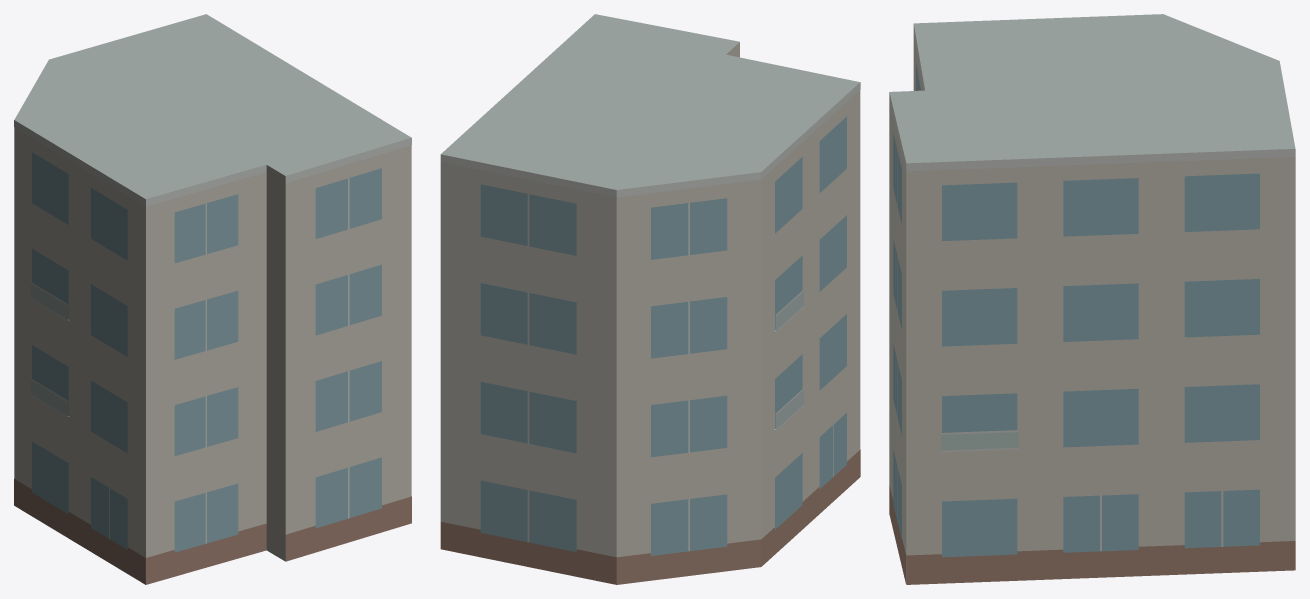
File: survey-upis-32649833.glb
3 renders of one model, left to right at view 1: azimuth 30°, elevation 25°; view 2: azimuth 150°, elevation 25°; view 3: azimuth 270°, elevation 25°, orthographic. The views are drawn at different scales.
Visible parts, largest first — view 1: survey-upis-32649833.tmp; view 2: survey-upis-32649833.tmp; view 3: survey-upis-32649833.tmp.
Boxes of the visible parts, x1,y1,x2,y2 form: survey-upis-32649833.tmp: (14, 14, 411, 584); survey-upis-32649833.tmp: (440, 14, 860, 584); survey-upis-32649833.tmp: (889, 14, 1295, 584).
Bounding box in the file's own units: 9.74 × 12.8 × 11.19.
